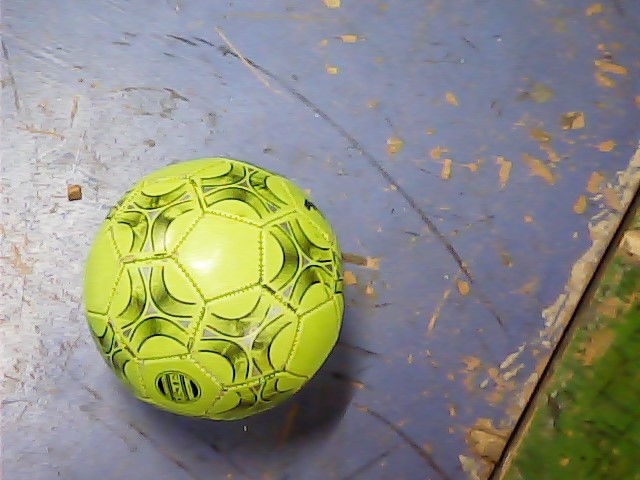Green_ball: (73, 160, 365, 421)
